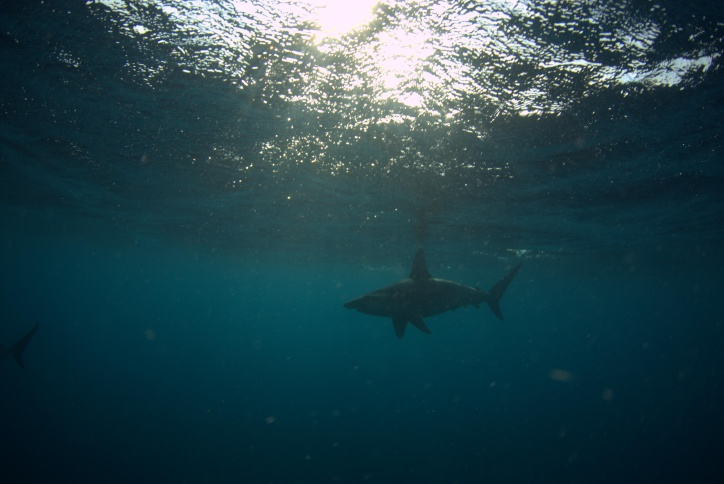Hammer: (273, 151, 505, 354)
